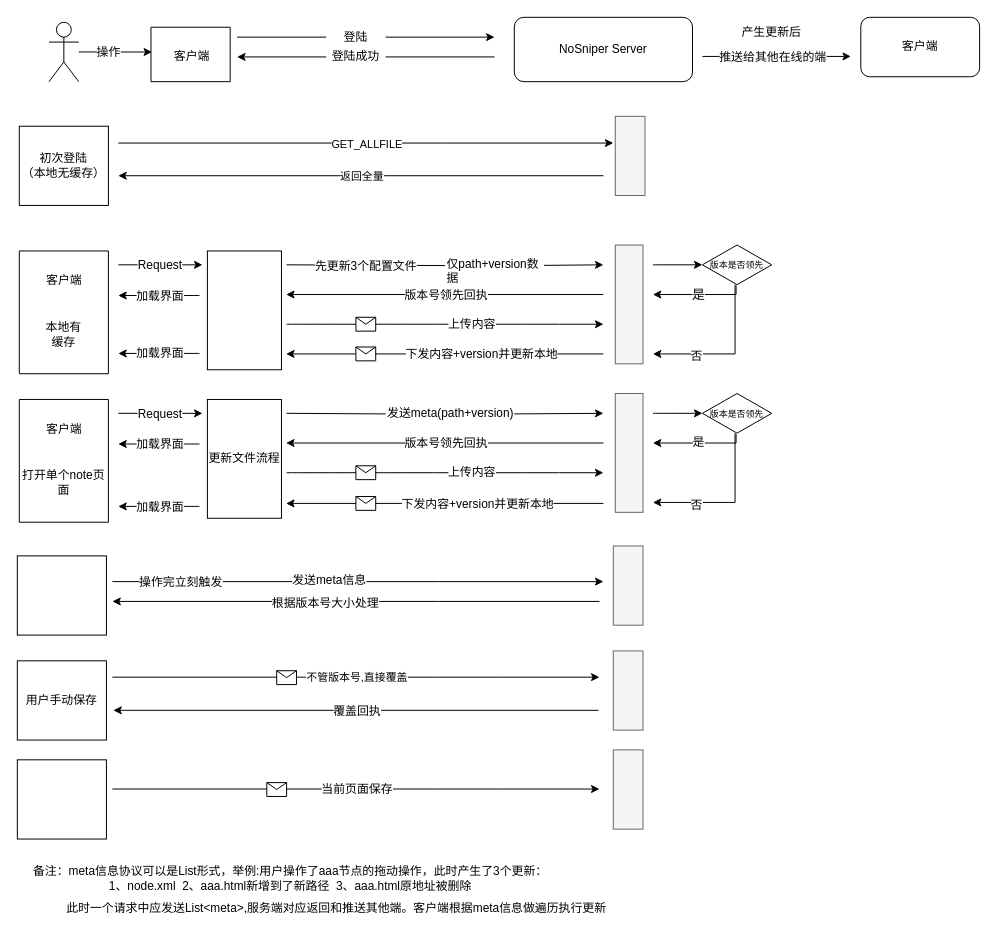
Image size: 997x936. Some labels were removed from this diagram. The shapes that lost their labels are listed below. From the top down, each one's centre as x and y in pixels, then its label:
(63,51): Actor
(243,310): 登陆流程
(61,595): 即时型业务操作 （主题修改&打卡&移动节点等）
(61,799): 关闭客户端
